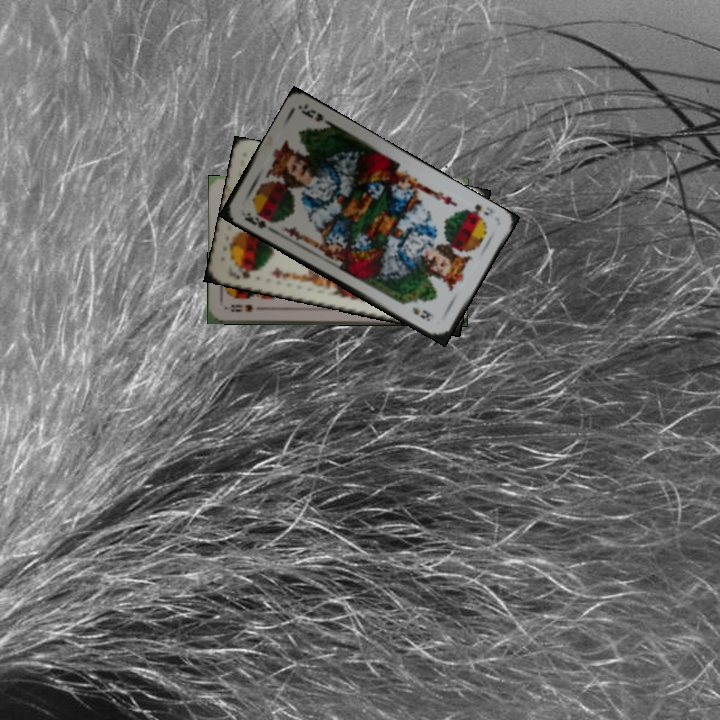S8: (227, 300, 256, 315)
SK: (240, 208, 276, 231), (461, 200, 491, 226), (232, 264, 260, 282)
